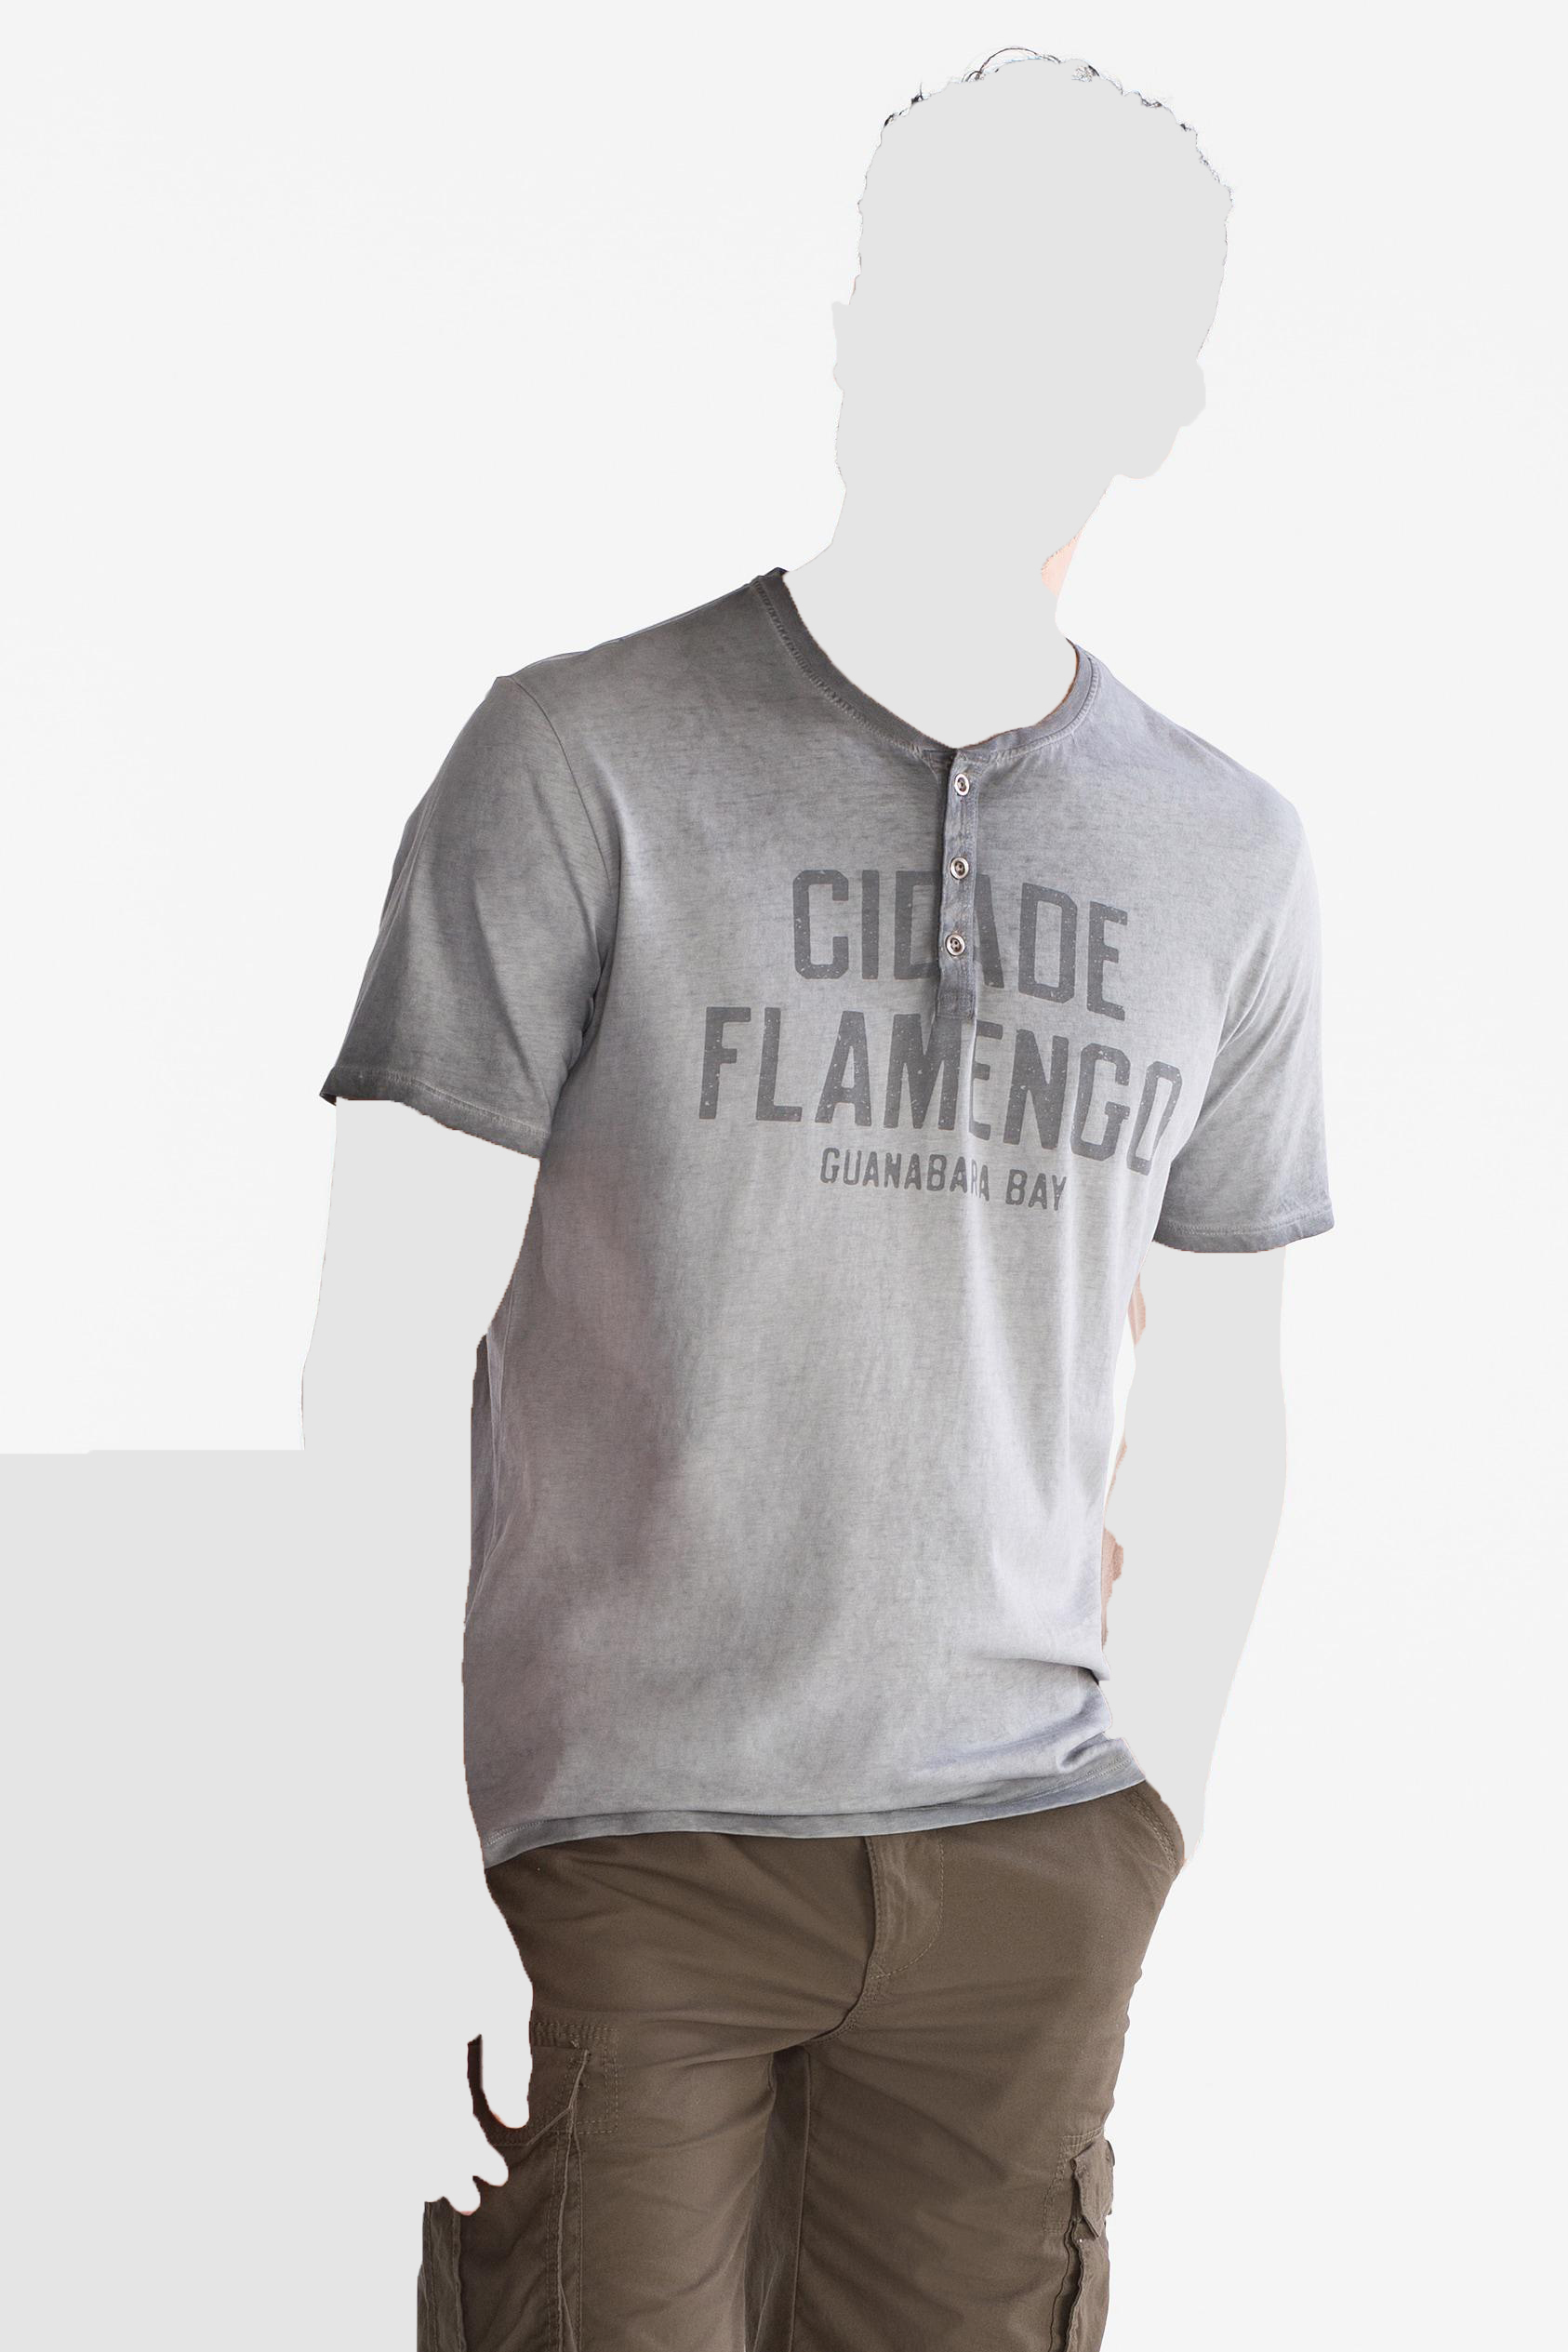teeshirt: (285, 560, 1365, 1848)
